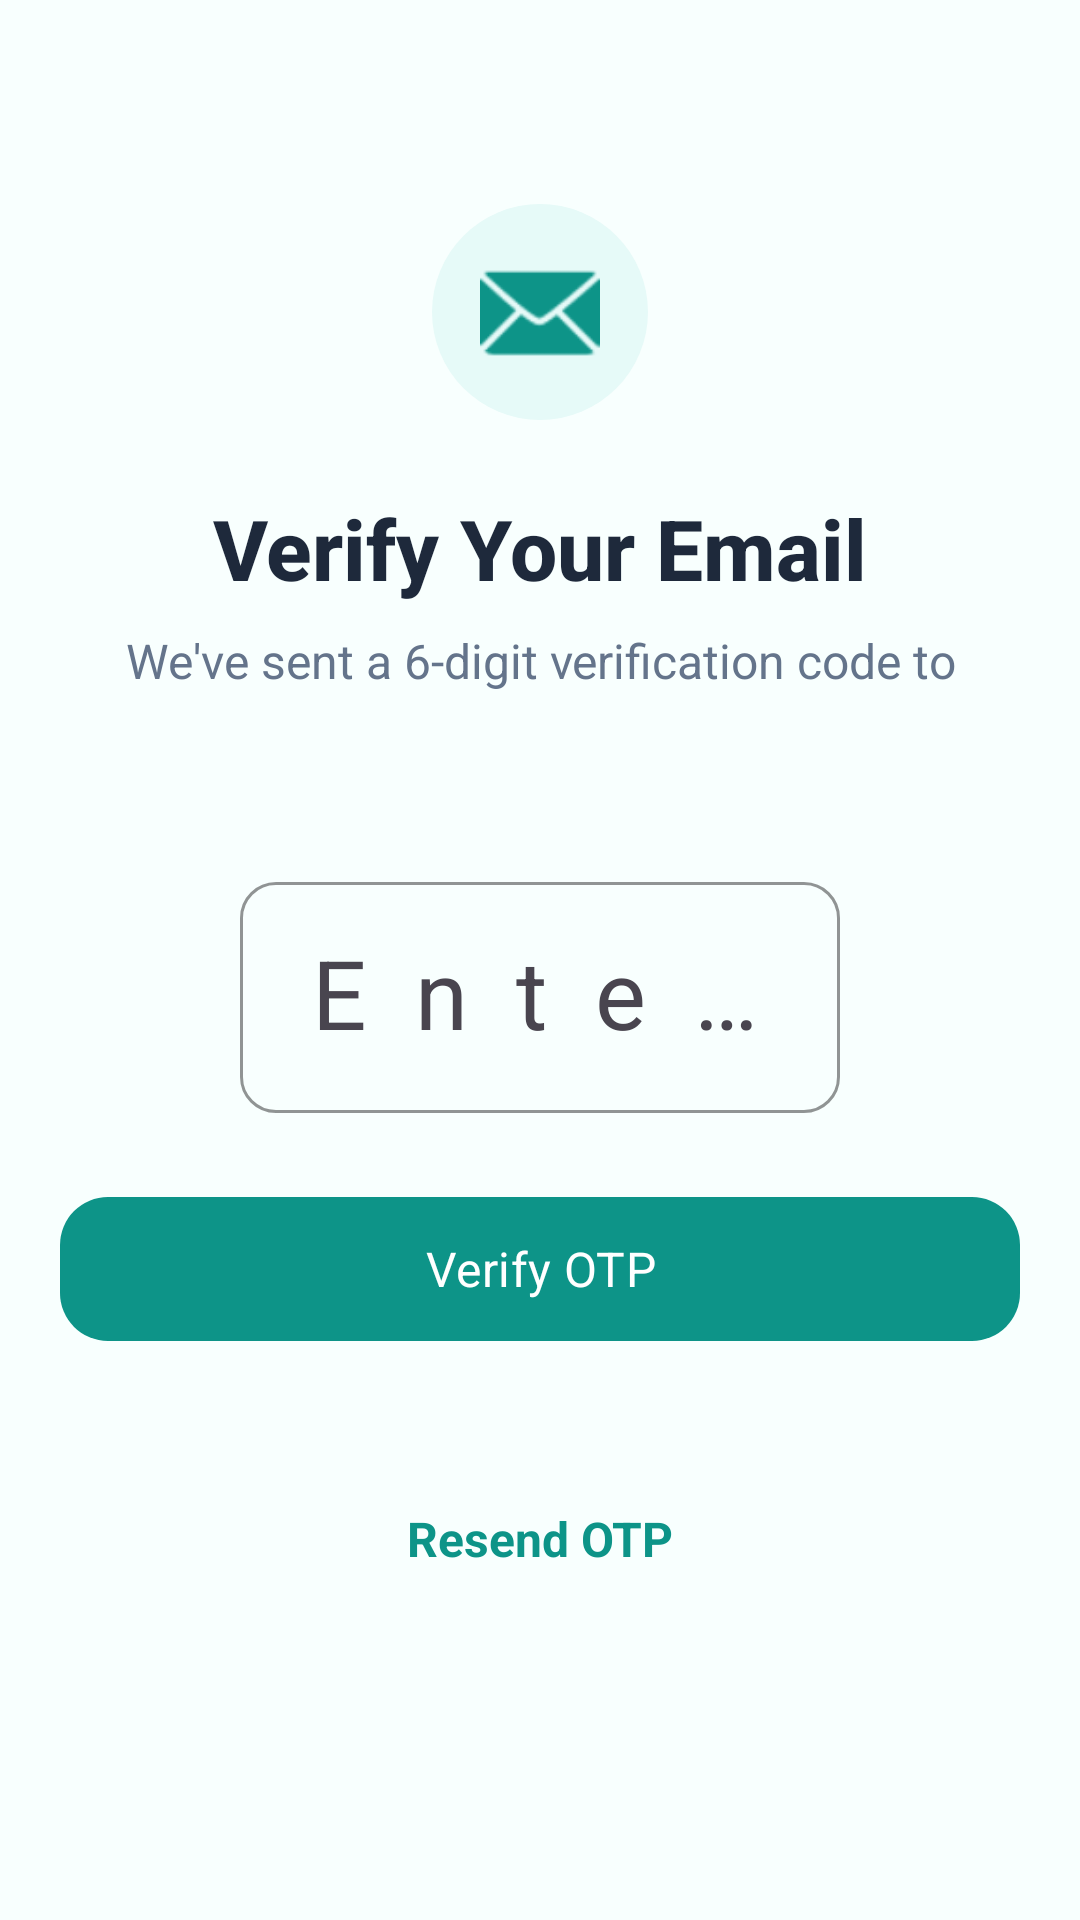

Icon bounding boxes for this 1080×1920 phone screenshot, format region(x1, y1, x2, y2):
Email verification: region(480, 270, 600, 356)
